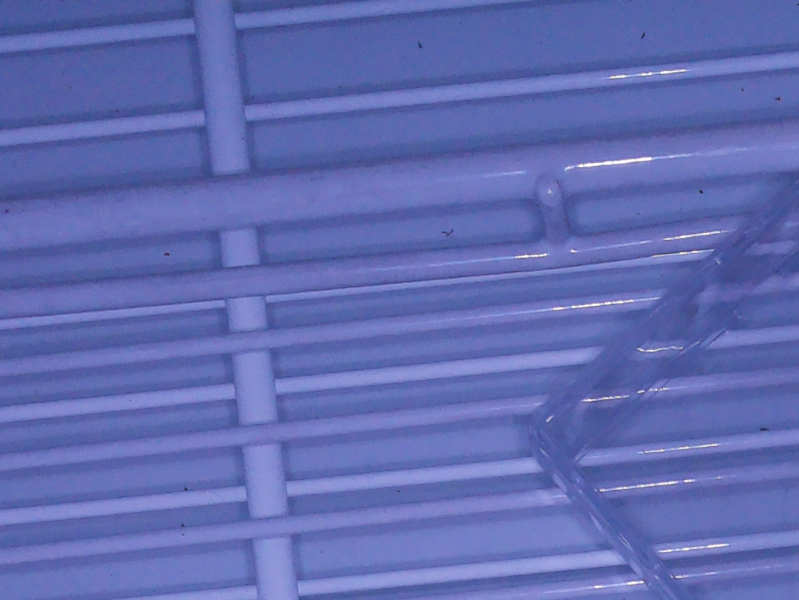plate: (522, 171, 799, 600)
